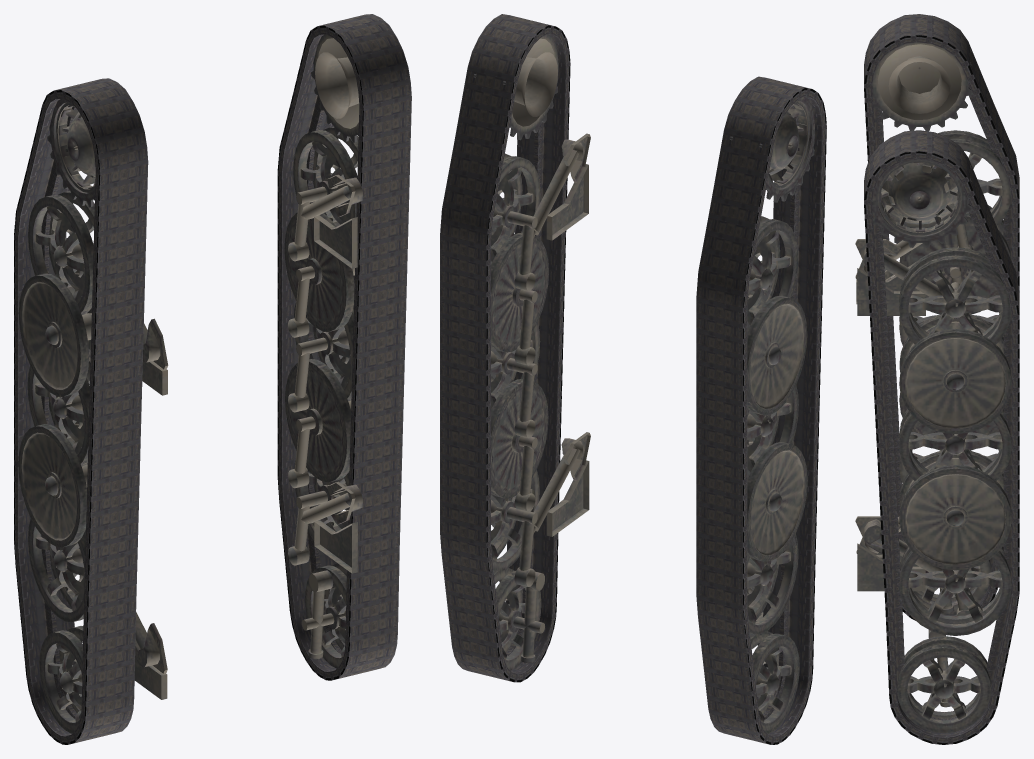
Rendered from Chassis.glb.
The picture shows the model from 3 angles, left to right: view 1: azimuth 30°, elevation 25°; view 2: azimuth 150°, elevation 25°; view 3: azimuth 270°, elevation 25°; orthographic projection. The views are drawn at different scales.
Parts seen in each view (by area): view 1: set_1_group_0, set_0_group_0, set_2_group_0, set_3_group_0; view 2: set_1_group_0, set_0_group_0, set_3_group_0, set_2_group_0; view 3: set_3_group_0, set_0_group_0, set_2_group_0, set_1_group_0.
Boxes of the visible parts, <box> form: set_1_group_0: <box>14,78,148,744</box>; set_0_group_0: <box>277,14,411,680</box>; set_2_group_0: <box>18,99,168,733</box>; set_3_group_0: <box>284,34,362,668</box>; set_1_group_0: <box>696,76,826,744</box>; set_0_group_0: <box>440,14,570,682</box>; set_3_group_0: <box>473,34,590,670</box>; set_2_group_0: <box>730,96,814,733</box>; set_3_group_0: <box>855,158,1011,733</box>; set_0_group_0: <box>864,130,1019,744</box>; set_2_group_0: <box>855,42,1011,615</box>; set_1_group_0: <box>864,14,1019,620</box>.
Size of the model in its own units: 1.92 by 3.79 by 0.9504.
4 materials, 4 textured.
